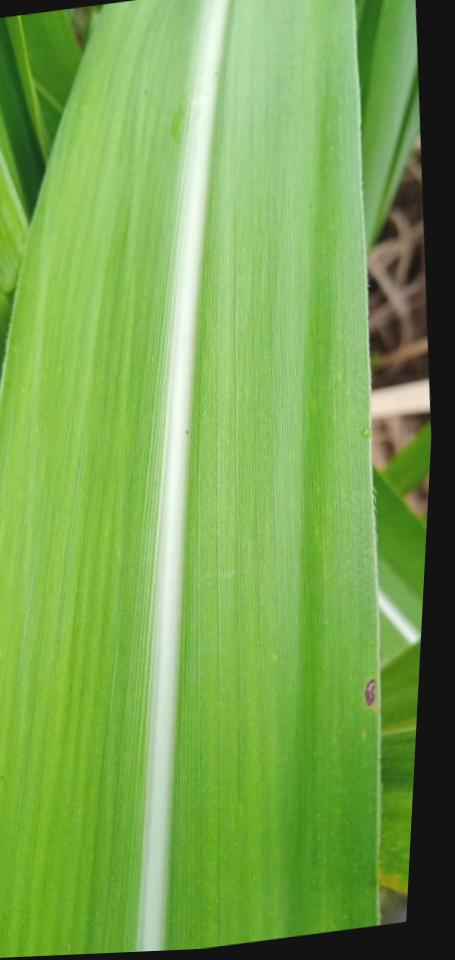Healthy: (0, 0, 382, 958), (0, 10, 83, 229), (353, 0, 418, 254), (369, 463, 427, 673), (378, 422, 430, 497), (420, 509, 428, 529)
